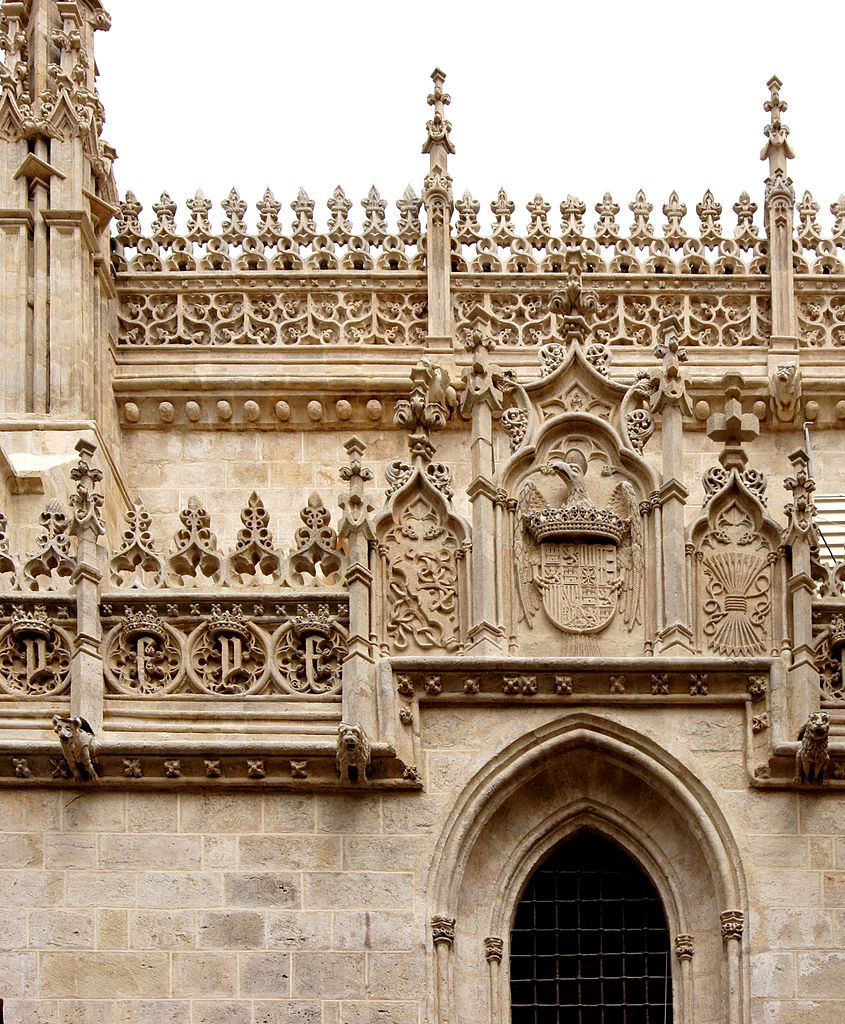arco-apuntado: (413, 703, 776, 955)
